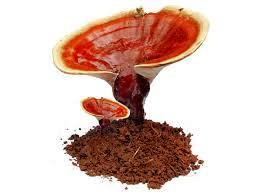Ganoderma - Fruit Body: (50, 5, 210, 75), (80, 95, 131, 120)
